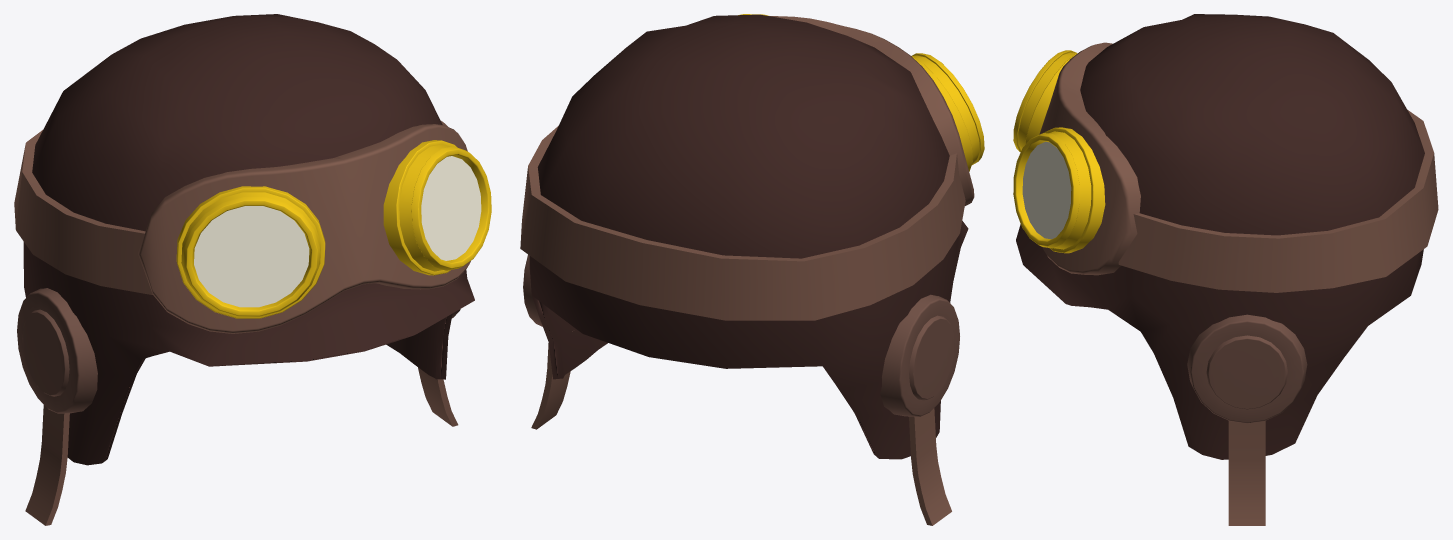
File: Pilot_hat.fbx
The picture shows the model from 3 angles, left to right: view 1: azimuth 30°, elevation 25°; view 2: azimuth 150°, elevation 25°; view 3: azimuth 270°, elevation 25°; orthographic projection. The views are drawn at different scales.
Visible parts, largest first — view 1: Pilot_hat; view 2: Pilot_hat; view 3: Pilot_hat.
Part boxes in pixels (<box>): Pilot_hat: <box>14,14,491,525</box>; Pilot_hat: <box>520,14,984,525</box>; Pilot_hat: <box>1013,14,1438,525</box>.
Size of the model in its own units: 137 by 138 by 134.
